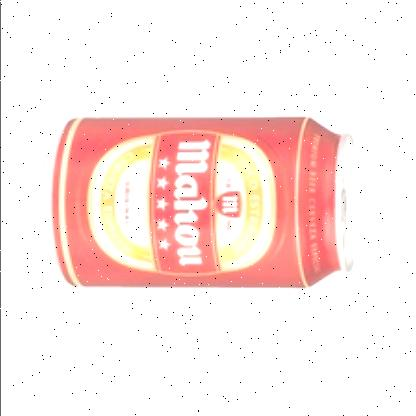Can: (40, 115, 360, 288)
